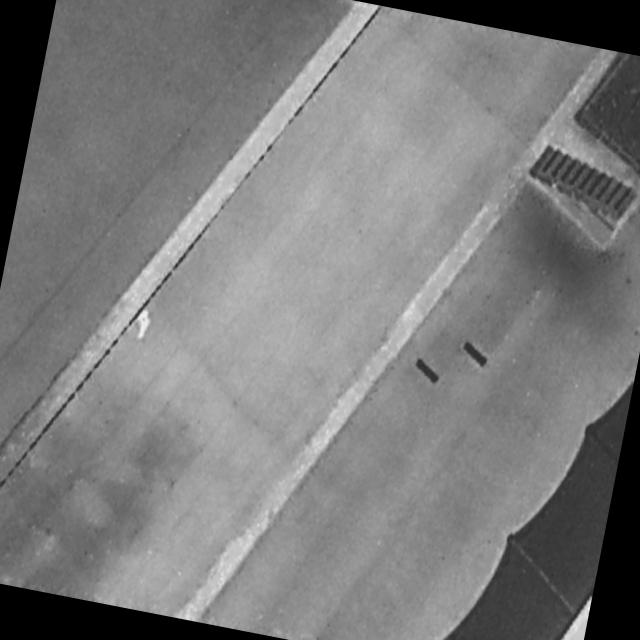person: (133, 308, 154, 345)
